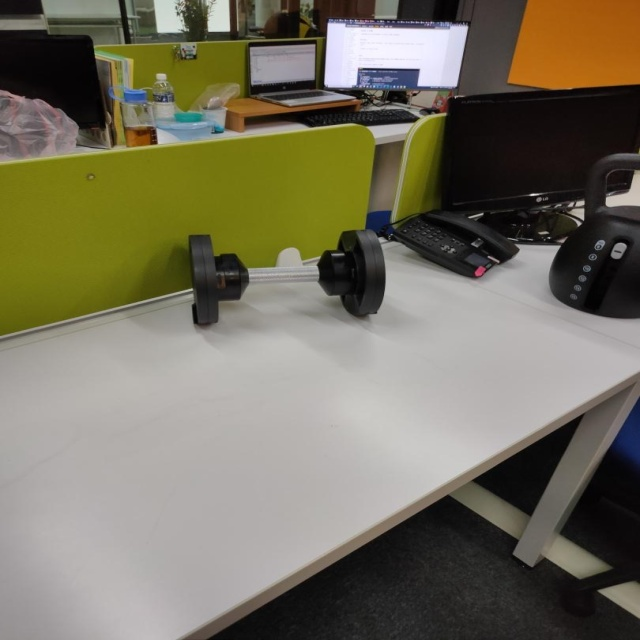03-6kg: (188, 229, 387, 325)
